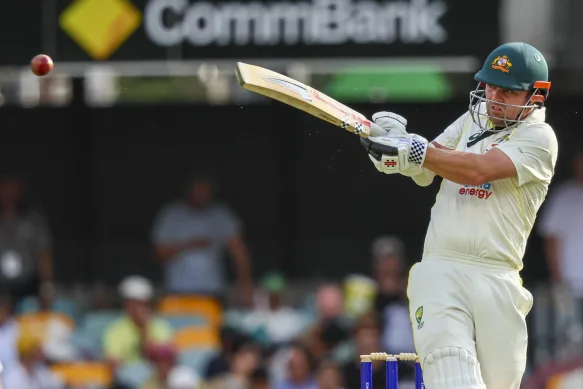Pullshot: (13, 2, 575, 389)
